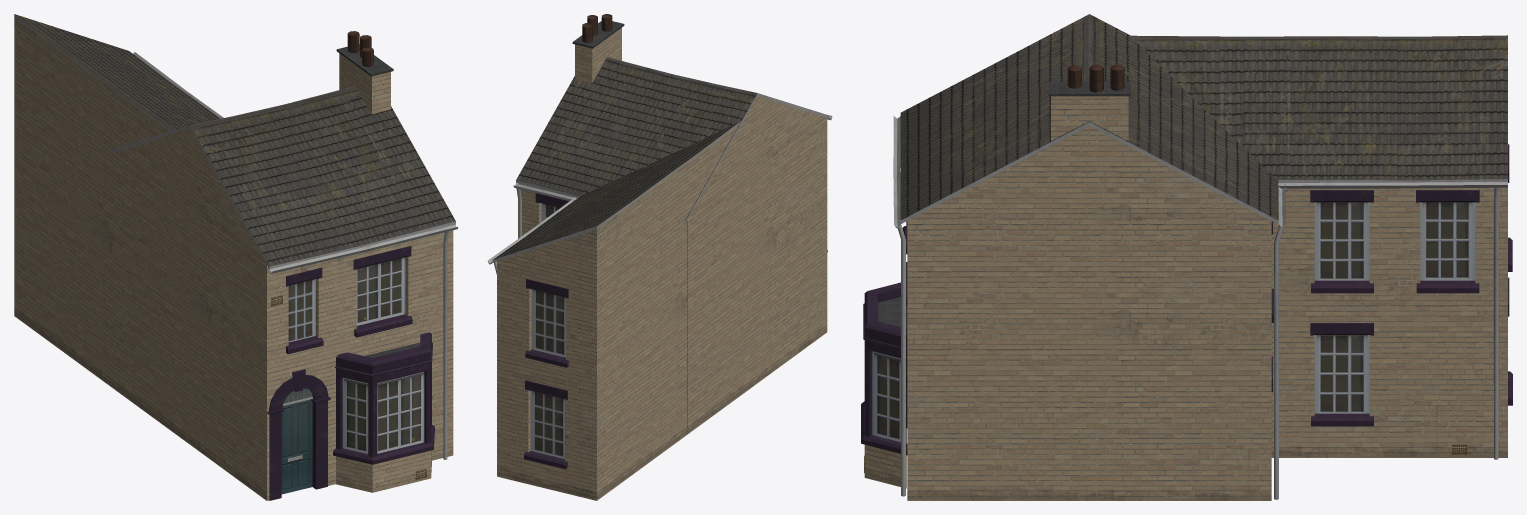
The model's file is ukterracedvictorian12b.FBX.
3 views of the same model, side by side, from view 1: azimuth 30°, elevation 25°; view 2: azimuth 150°, elevation 25°; view 3: azimuth 270°, elevation 25° (orthographic). The views are drawn at different scales.
Parts seen in each view (by area): view 1: Object003; view 2: Object003; view 3: Object003.
Boxes of the visible parts, <box> form: Object003: <box>14,14,458,500</box>; Object003: <box>487,14,832,500</box>; Object003: <box>861,14,1512,500</box>.
Size of the model in its own units: 560 by 1041 by 1431.
